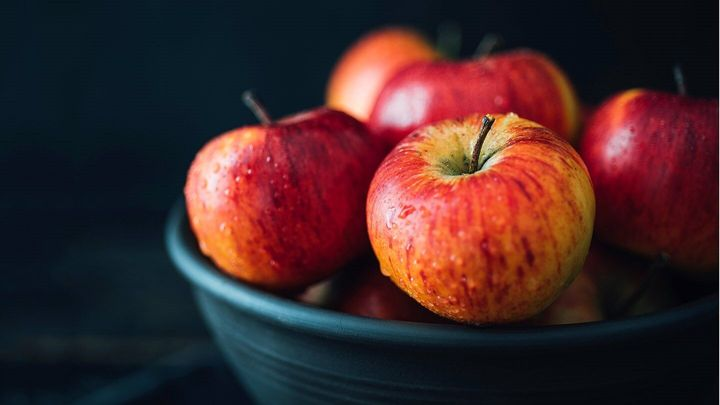apple: (372, 114, 598, 320), (188, 113, 373, 278)
